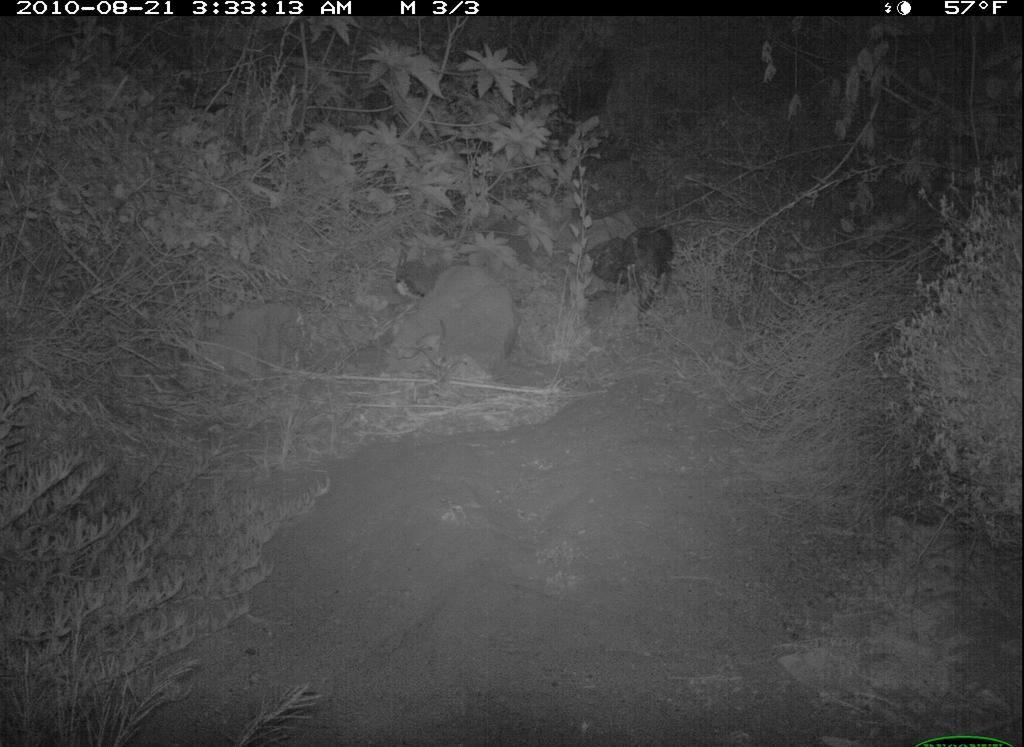raccoon: (587, 213, 681, 340)
